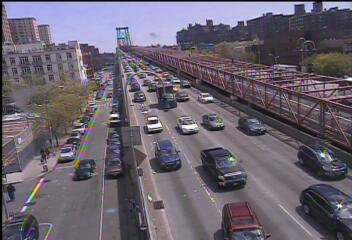neg: (192, 146, 211, 171), (169, 115, 182, 133), (21, 54, 32, 67), (21, 98, 32, 111), (227, 152, 237, 166), (158, 72, 168, 85), (277, 80, 286, 92), (73, 113, 82, 125), (77, 89, 85, 100), (241, 75, 249, 85), (175, 61, 183, 71), (114, 70, 122, 80), (45, 80, 53, 90), (104, 86, 110, 94)
pos: (1, 178, 19, 205), (37, 144, 46, 156), (44, 145, 53, 156), (39, 152, 47, 163)
